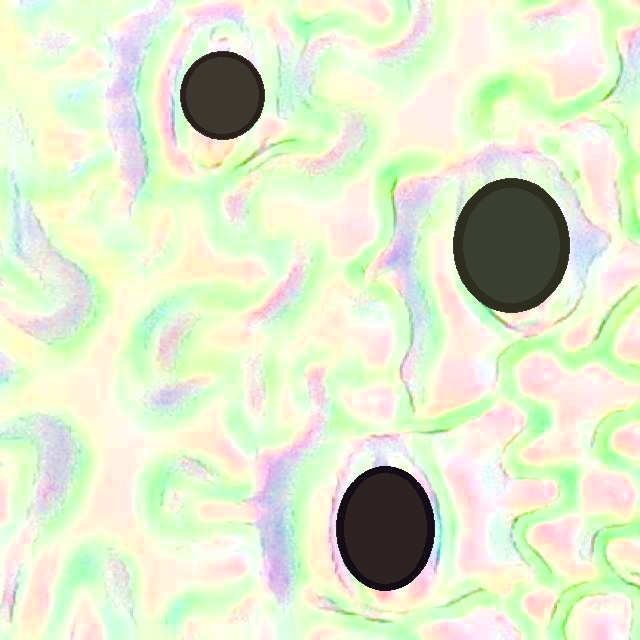open: (454, 178, 569, 312), (336, 466, 434, 591), (179, 51, 265, 140)
